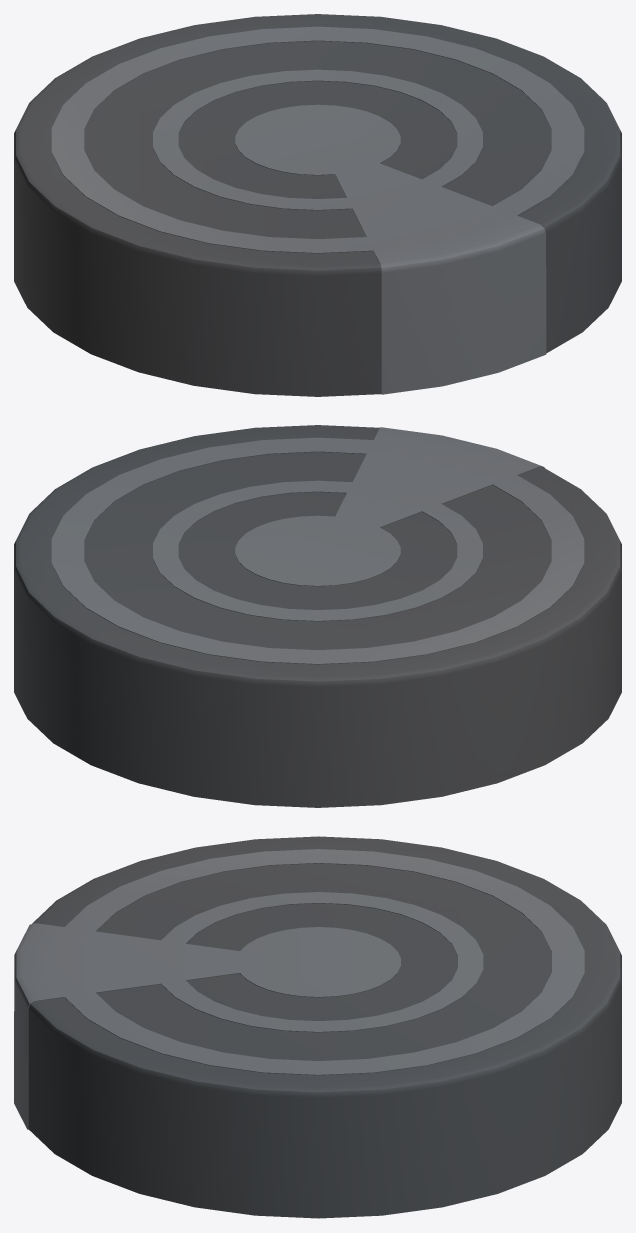
The model's file is Airort_Mdl_V01.fbx.
3 views of the same model, one above another, from view 1: azimuth 30°, elevation 25°; view 2: azimuth 150°, elevation 25°; view 3: azimuth 270°, elevation 25° (orthographic).
Parts seen in each view (by area): view 1: Airport_Mdl_V01; view 2: Airport_Mdl_V01; view 3: Airport_Mdl_V01.
Boxes of the visible parts, left/top/right/bottom form: Airport_Mdl_V01: left=14, top=14, right=621, bottom=396; Airport_Mdl_V01: left=14, top=425, right=621, bottom=807; Airport_Mdl_V01: left=14, top=836, right=621, bottom=1218.
Bounding box in the file's own units: 48.05 × 11.1 × 47.9.
